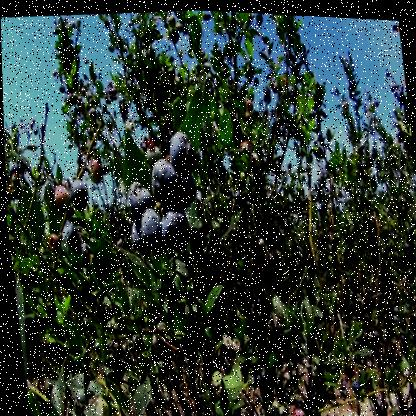intermediate: (53, 182, 71, 218), (86, 156, 106, 187), (46, 230, 62, 257), (245, 96, 256, 111)
mature: (145, 149, 182, 206), (157, 204, 193, 253), (127, 207, 163, 254), (168, 126, 197, 179), (124, 182, 153, 226), (60, 225, 84, 265), (68, 177, 91, 215)
young: (142, 137, 164, 166), (220, 334, 241, 352), (250, 148, 262, 168), (256, 233, 267, 249), (202, 57, 213, 73), (238, 165, 247, 182), (4, 145, 9, 168)
